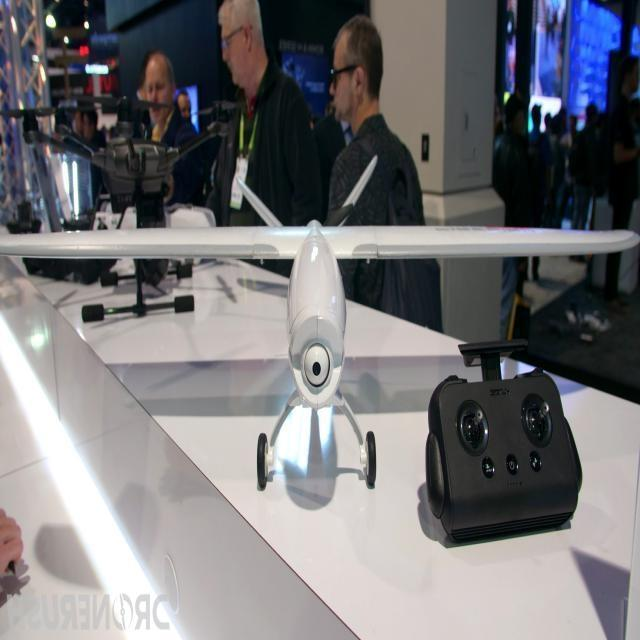Airplane: (3, 156, 638, 496)
